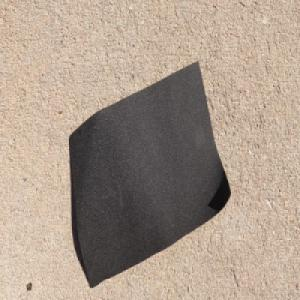PaintChip: (68, 59, 230, 290)
